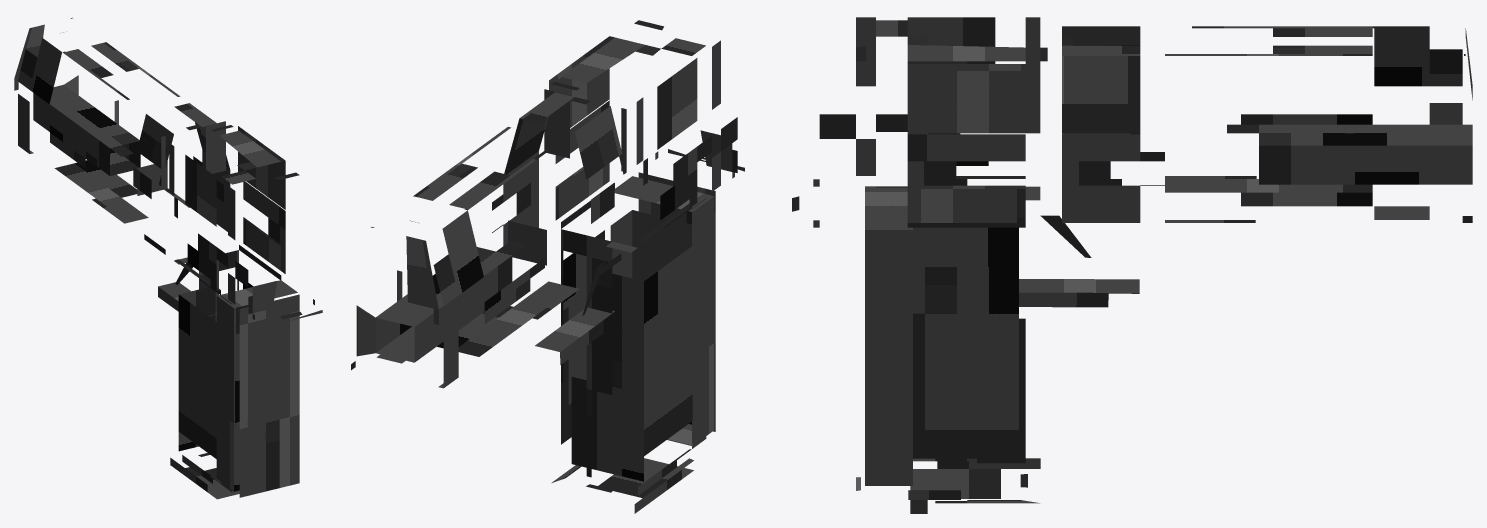
File: DesertEagle.obj
3 renders of one model, left to right at view 1: azimuth 30°, elevation 25°; view 2: azimuth 150°, elevation 25°; view 3: azimuth 270°, elevation 25°, orthographic. The views are drawn at different scales.
Visible parts, largest first — view 1: Desert_Eagle_Cube.005; view 2: Desert_Eagle_Cube.005; view 3: Desert_Eagle_Cube.005.
Boxes of the visible parts, left/top/right/bottom form: Desert_Eagle_Cube.005: left=14, top=17, right=322, bottom=499; Desert_Eagle_Cube.005: left=351, top=20, right=744, bottom=513; Desert_Eagle_Cube.005: left=792, top=17, right=1472, bottom=513.
Size of the model in its own units: 0.9637 by 4.54 by 6.08.
